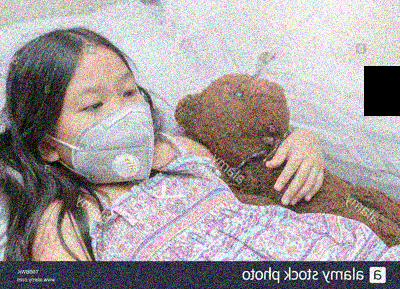with_mask: (52, 70, 156, 183)
